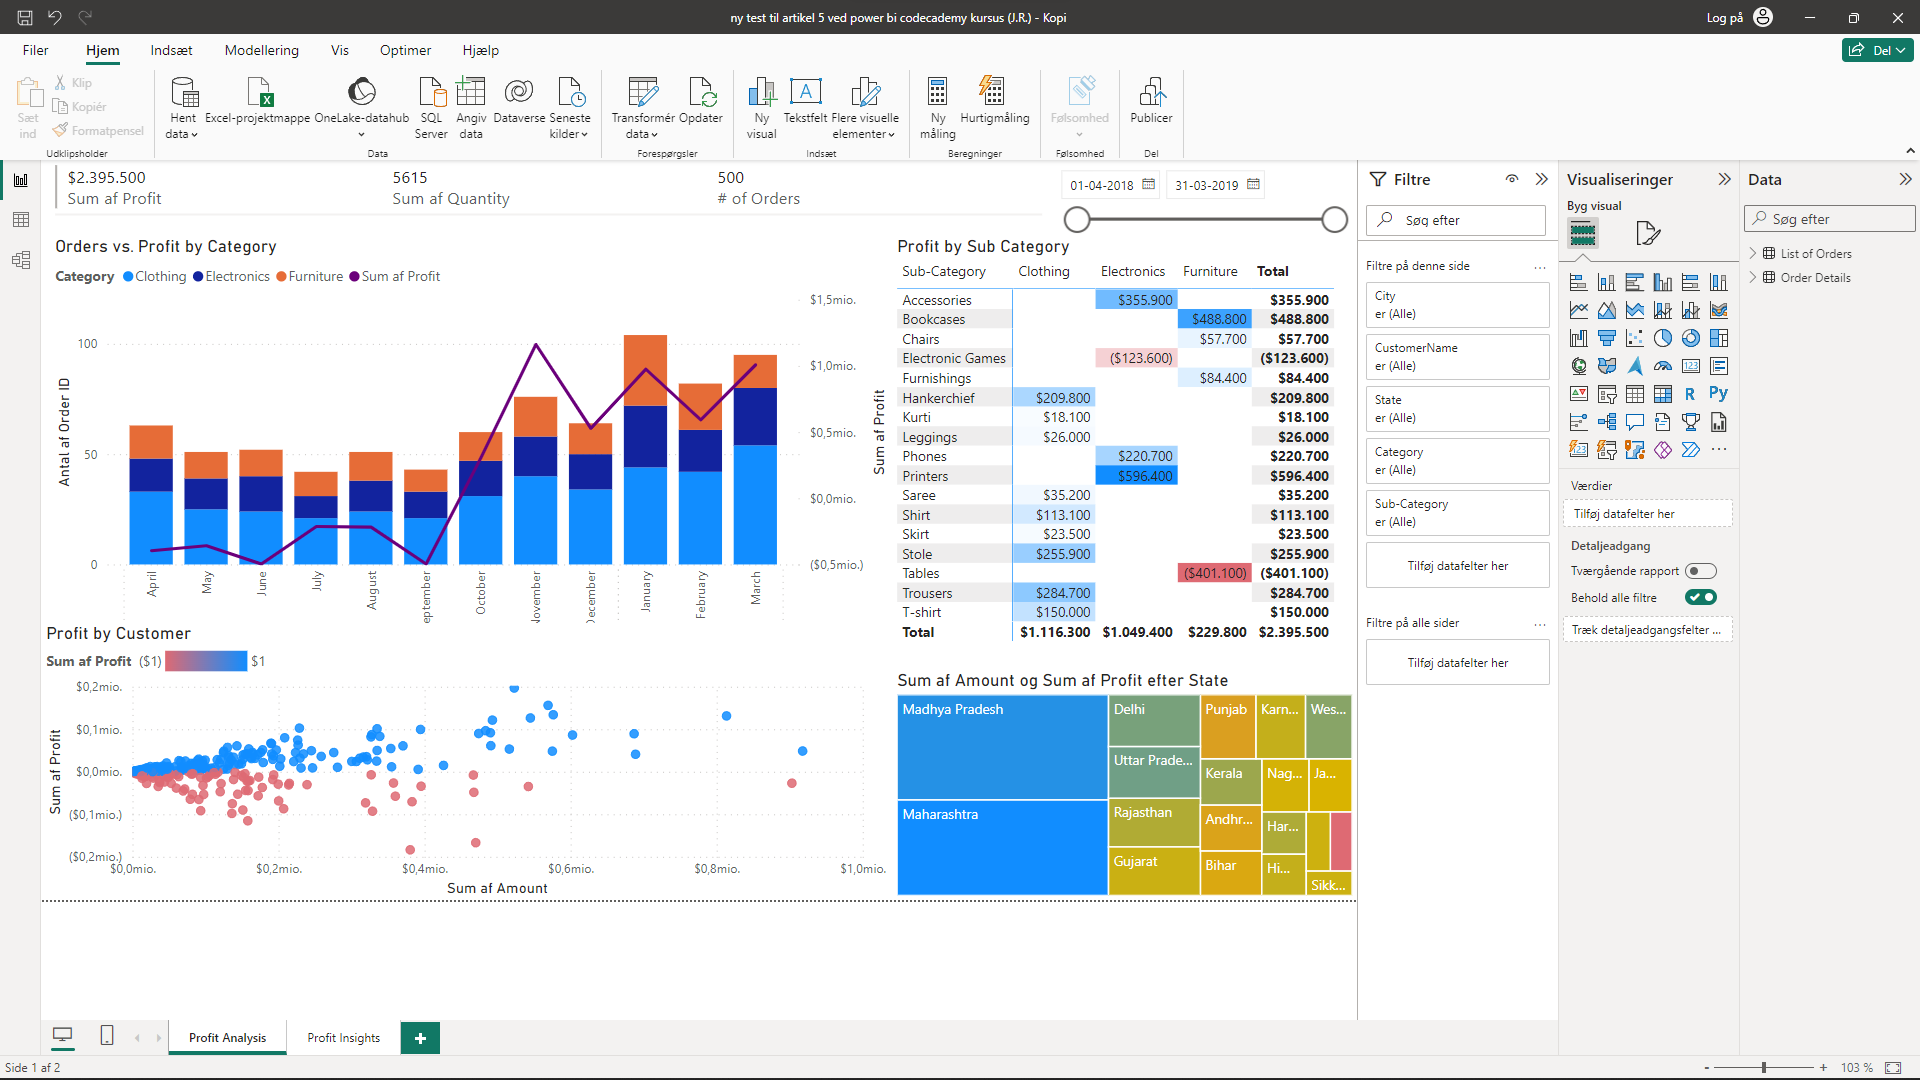

Layout of this report page (visuals, bound fields, positions):
{"tool":"powerbi","page":{"name":"Profit Analysis","canvas":[1280,720],"ordinal":0},"visuals":[{"type":"multiRowCard","fields":{"Values":["Sum(Order Details.Profit)","Sum(Order Details.Quantity)","List of Orders.Order ID"]},"box":[9.2,0,970.5,73.9],"z":0},{"type":"lineStackedColumnComboChart","title":"Orders vs. Profit by Category","fields":{"Category":["List of Orders.Order Date.Variation.Date Hierarchy.Year","List of Orders.Order Date.Variation.Date Hierarchy.Month"],"Series":["Order Details.Category"],"Y2":["Sum(Order Details.Profit)"],"Y":["CountNonNull(List of Orders.Order ID)"]},"box":[9.2,73.9,818.1,421.8],"z":1000},{"type":"pivotTable","title":"Profit by Sub Category","fields":{"Rows":["Order Details.Sub-Category"],"Columns":["Order Details.Category"],"Values":["Sum(Order Details.Profit)"]},"box":[827.3,73.9,453.2,421.8],"z":2000},{"type":"scatterChart","title":"Profit by Customer","fields":{"Category":["List of Orders.CustomerName"],"X":["Sum(Order Details.Amount)"],"Y":["Sum(Order Details.Profit)"]},"box":[0,449.9,827.3,270.7],"z":3000},{"type":"treemap","fields":{"Values":["Sum(Order Details.Amount)"],"Group":["List of Orders.State"]},"box":[827.3,495.7,452.5,224.3],"z":4000},{"type":"slicer","fields":{"Values":["List of Orders.Order Date"]},"box":[979.6,0,300.2,73.9],"z":5000}]}

Visuals, with their boxes on the page's 1280x720 design canvas (x1, y1, x2, y2). These are canvas units, not pixel positions in the 1920x1080 screenshot, which may show the page scaled, cropped or inside an application window:
multiRowCard - Sum(Order Details.Profit) x Sum(Order Details.Quantity): 9 0 980 74
"Orders vs. Profit by Category" lineStackedColumnComboChart: 9 74 827 496
"Profit by Sub Category" pivotTable: 827 74 1280 496
"Profit by Customer" scatterChart: 0 450 827 721
treemap - Sum(Order Details.Amount) x List of Orders.State: 827 496 1280 720
slicer - List of Orders.Order Date: 980 0 1280 74
